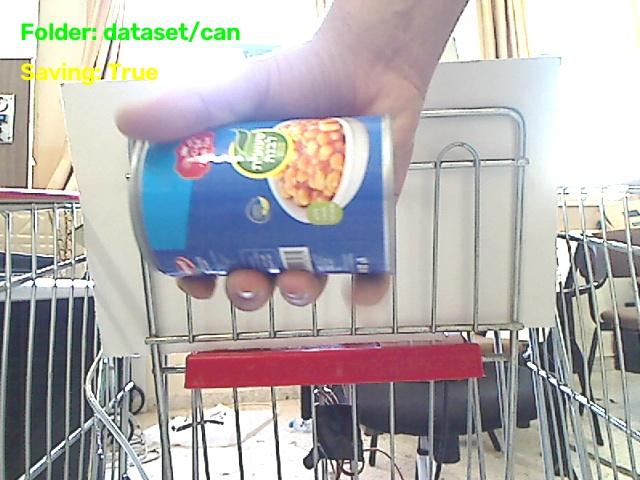can: (130, 117, 394, 275)
